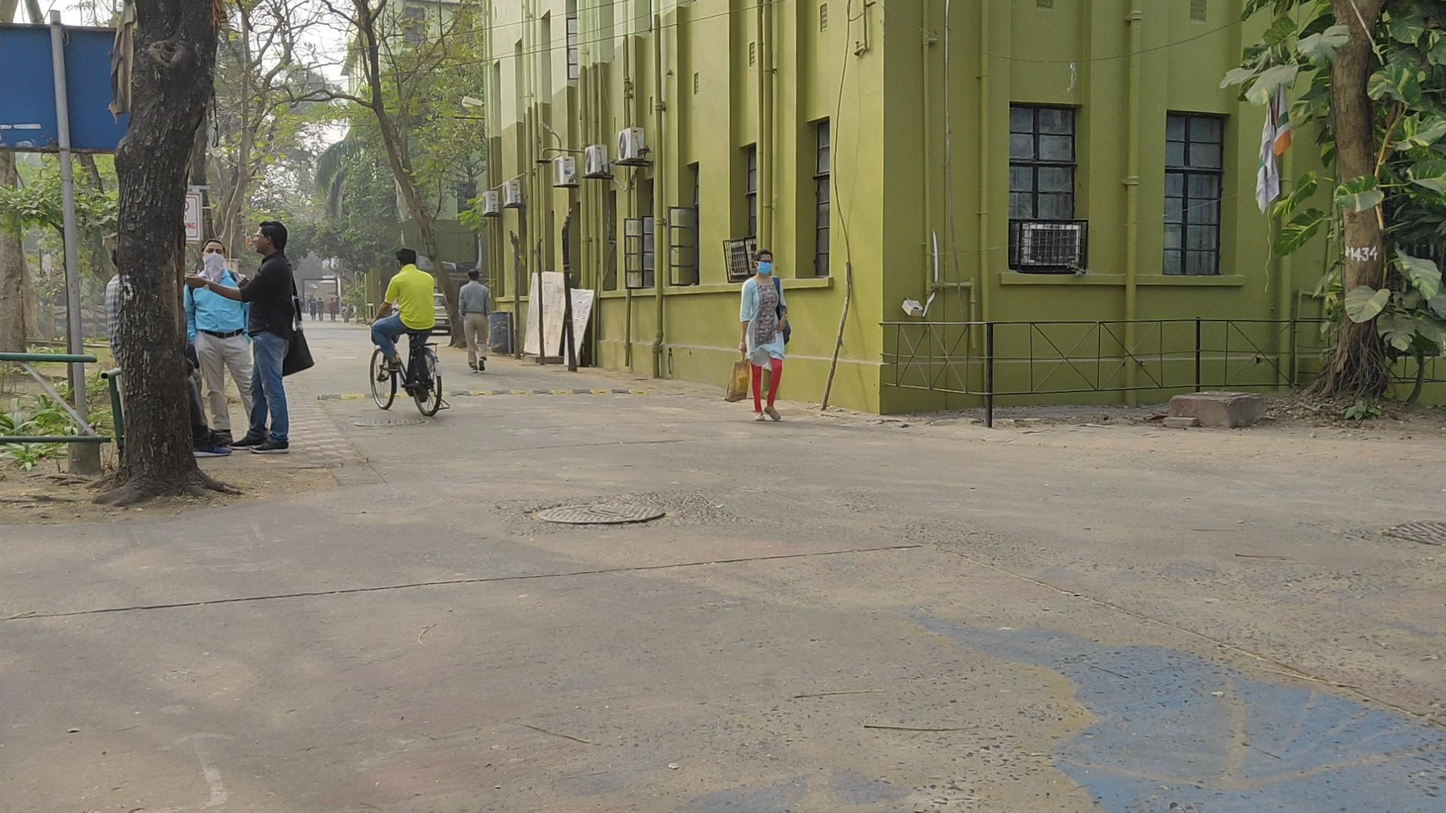bike: (369, 250, 450, 420)
